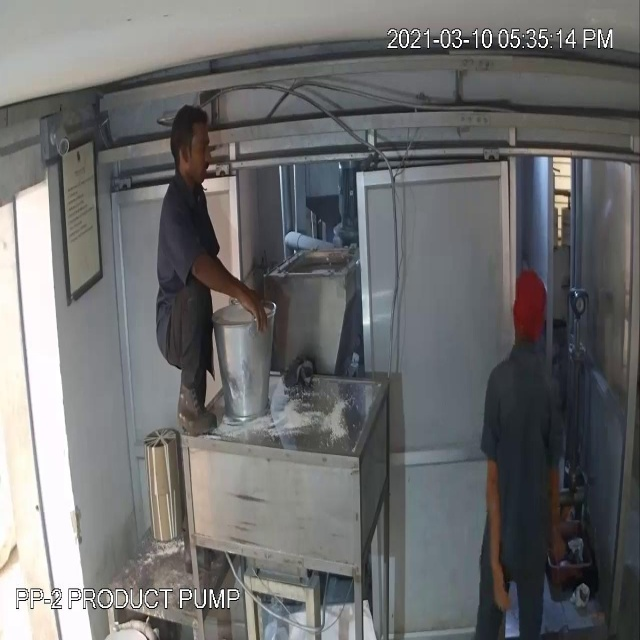Sin_guantes: (178, 227, 270, 339), (482, 442, 517, 627)
